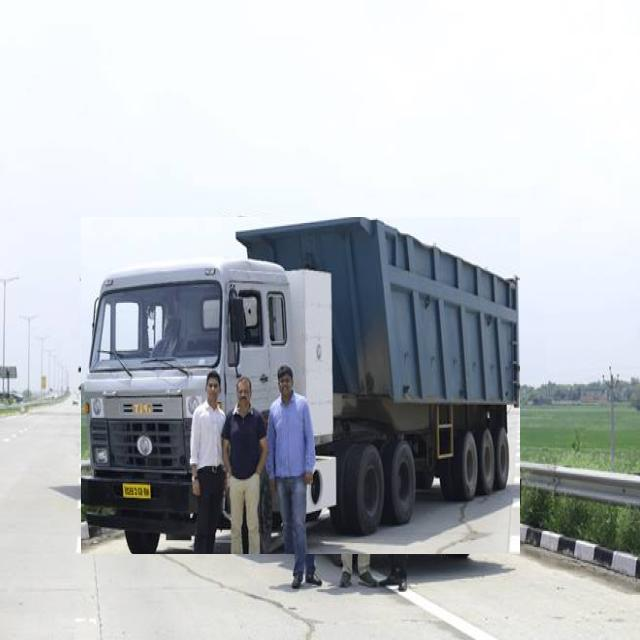truck: (81, 217, 520, 554)
